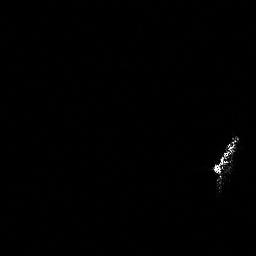ship: (207, 132, 242, 194)
